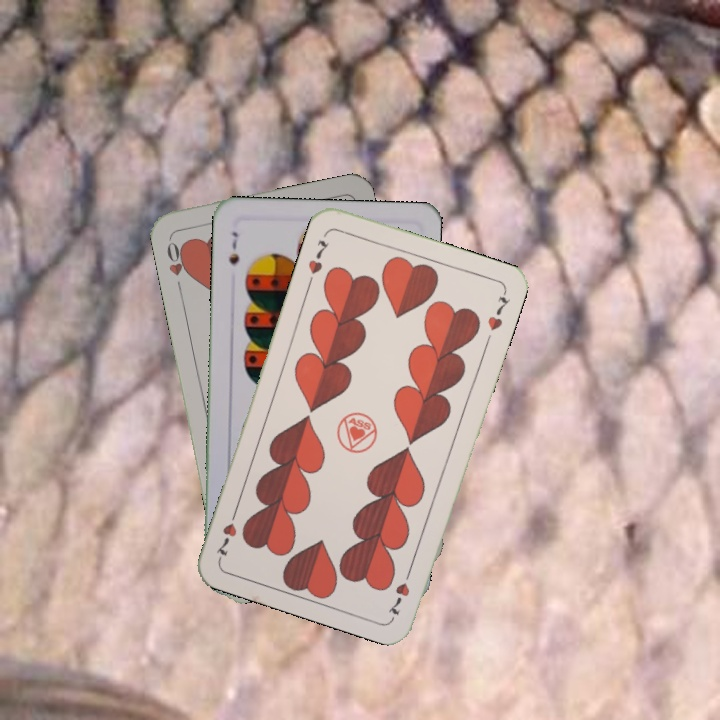H7: (384, 563, 415, 620), (304, 236, 332, 277)
HO: (162, 238, 193, 294)
S7: (224, 228, 242, 268)
